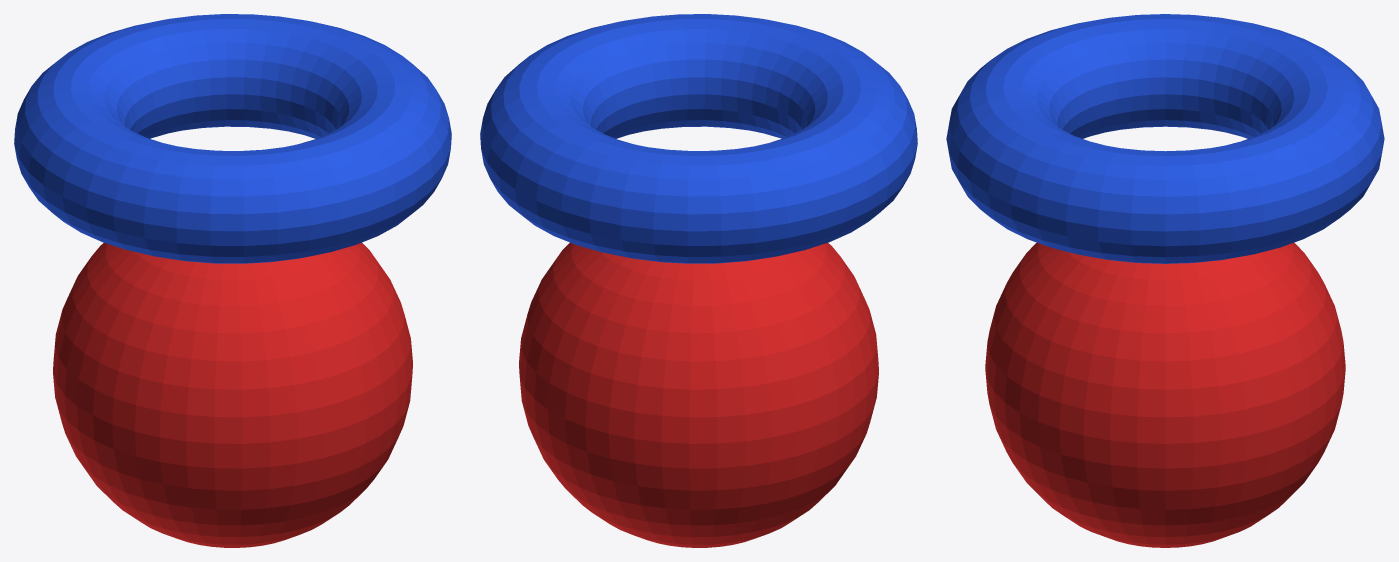
Rendered from personnage_couleurs.obj.
The picture shows the model from 3 angles, left to right: view 1: azimuth 30°, elevation 25°; view 2: azimuth 150°, elevation 25°; view 3: azimuth 270°, elevation 25°; orthographic projection.
Visible parts, largest first — view 1: corps; view 2: corps; view 3: corps.
Part boxes in pixels (x1=…): corps: x1=14, y1=14, x2=451, y2=547; corps: x1=480, y1=14, x2=917, y2=547; corps: x1=946, y1=14, x2=1384, y2=547.
Bounding box in the file's own units: 48.6 × 54.3 × 48.6.
